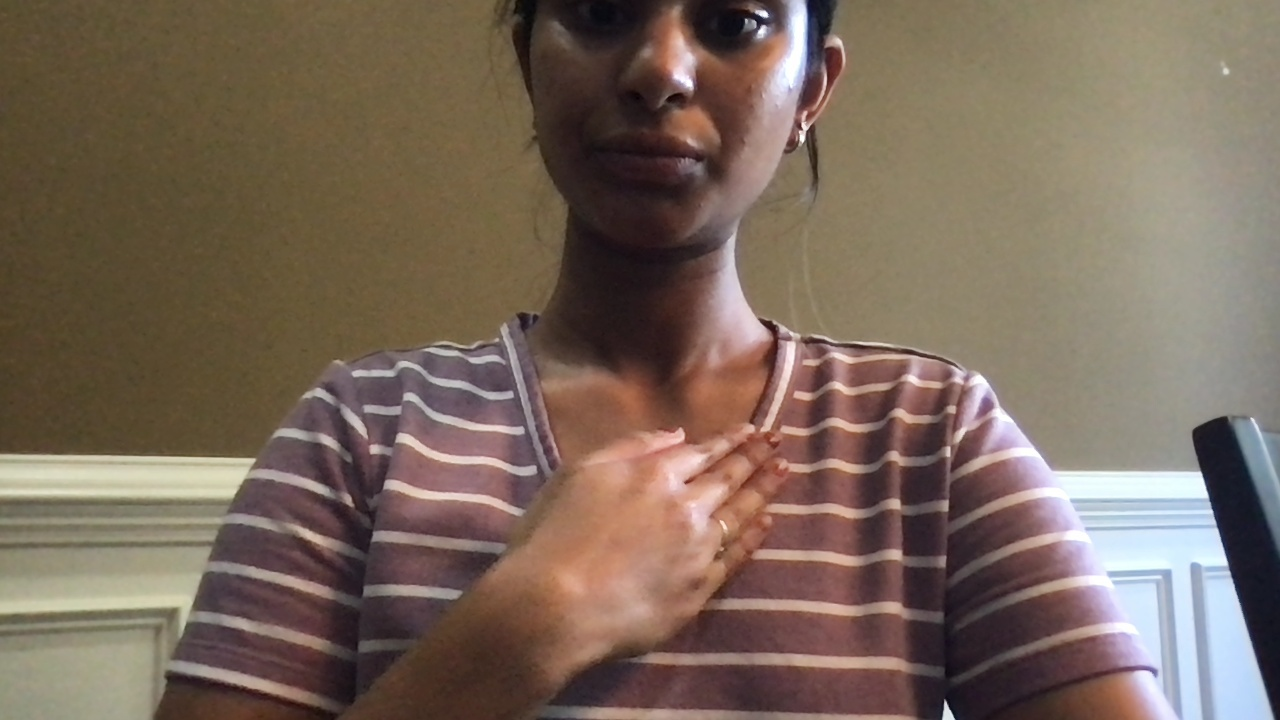Please: (479, 410, 834, 639)
